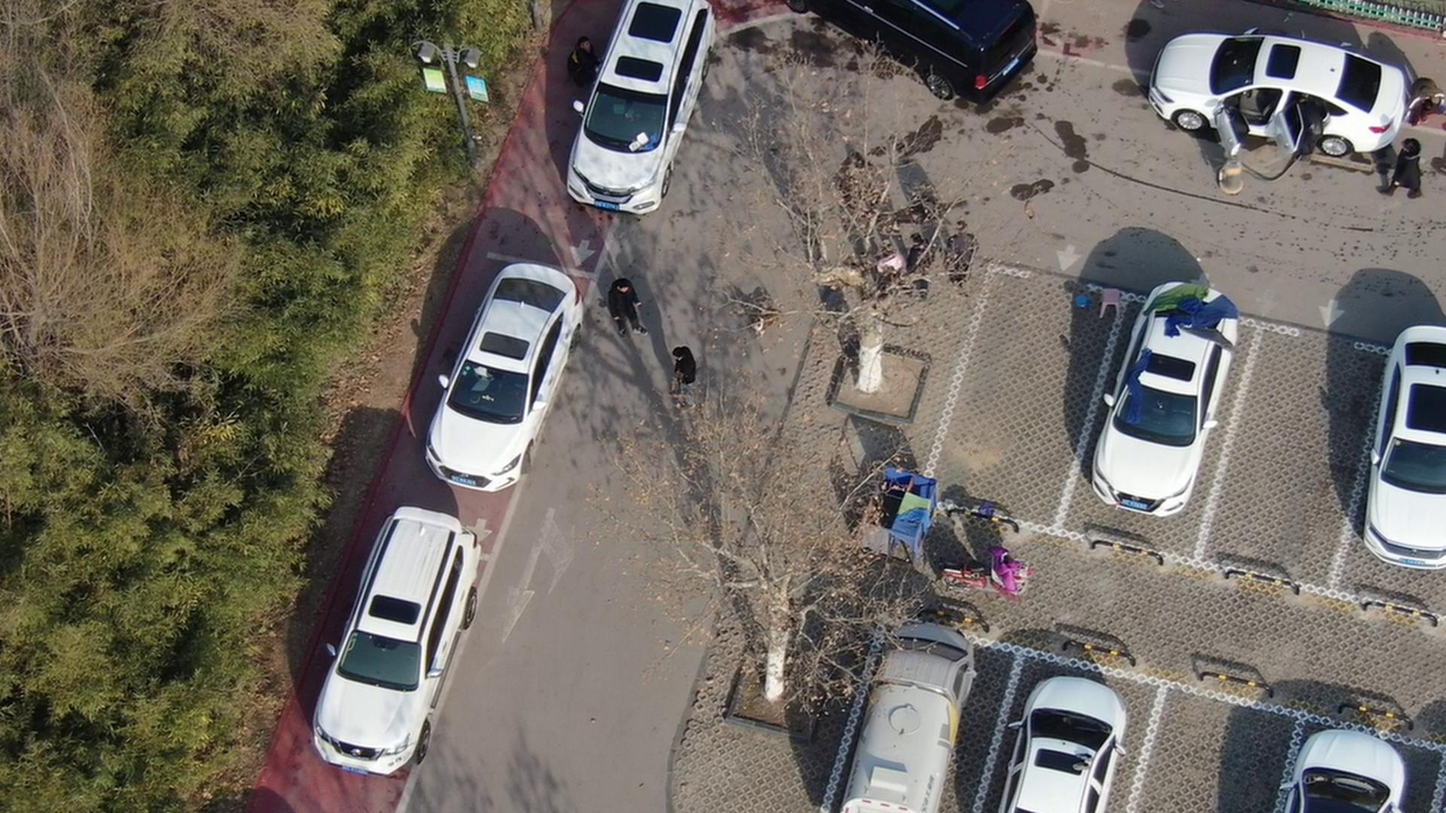human: (1375, 137, 1430, 203), (609, 267, 649, 346), (1292, 90, 1332, 163), (575, 29, 621, 90), (948, 223, 986, 295), (672, 338, 709, 411), (911, 231, 941, 301), (1405, 67, 1439, 126)
